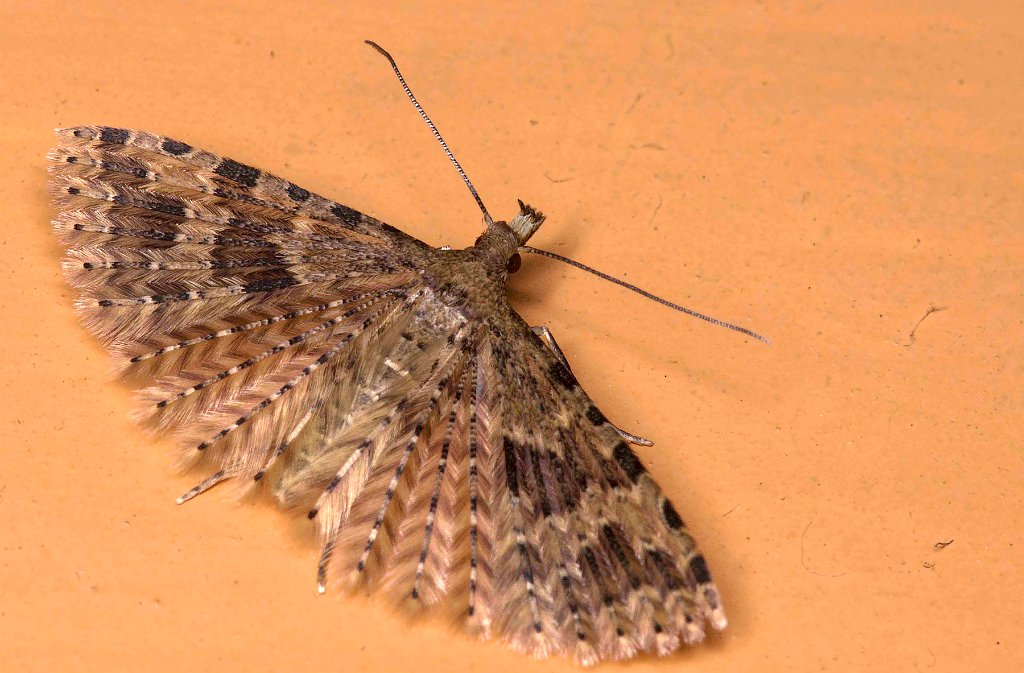Alucitidae: (49, 42, 772, 669)
moth: (47, 40, 770, 667)
